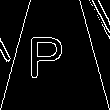P_N: (36, 30, 74, 80)
